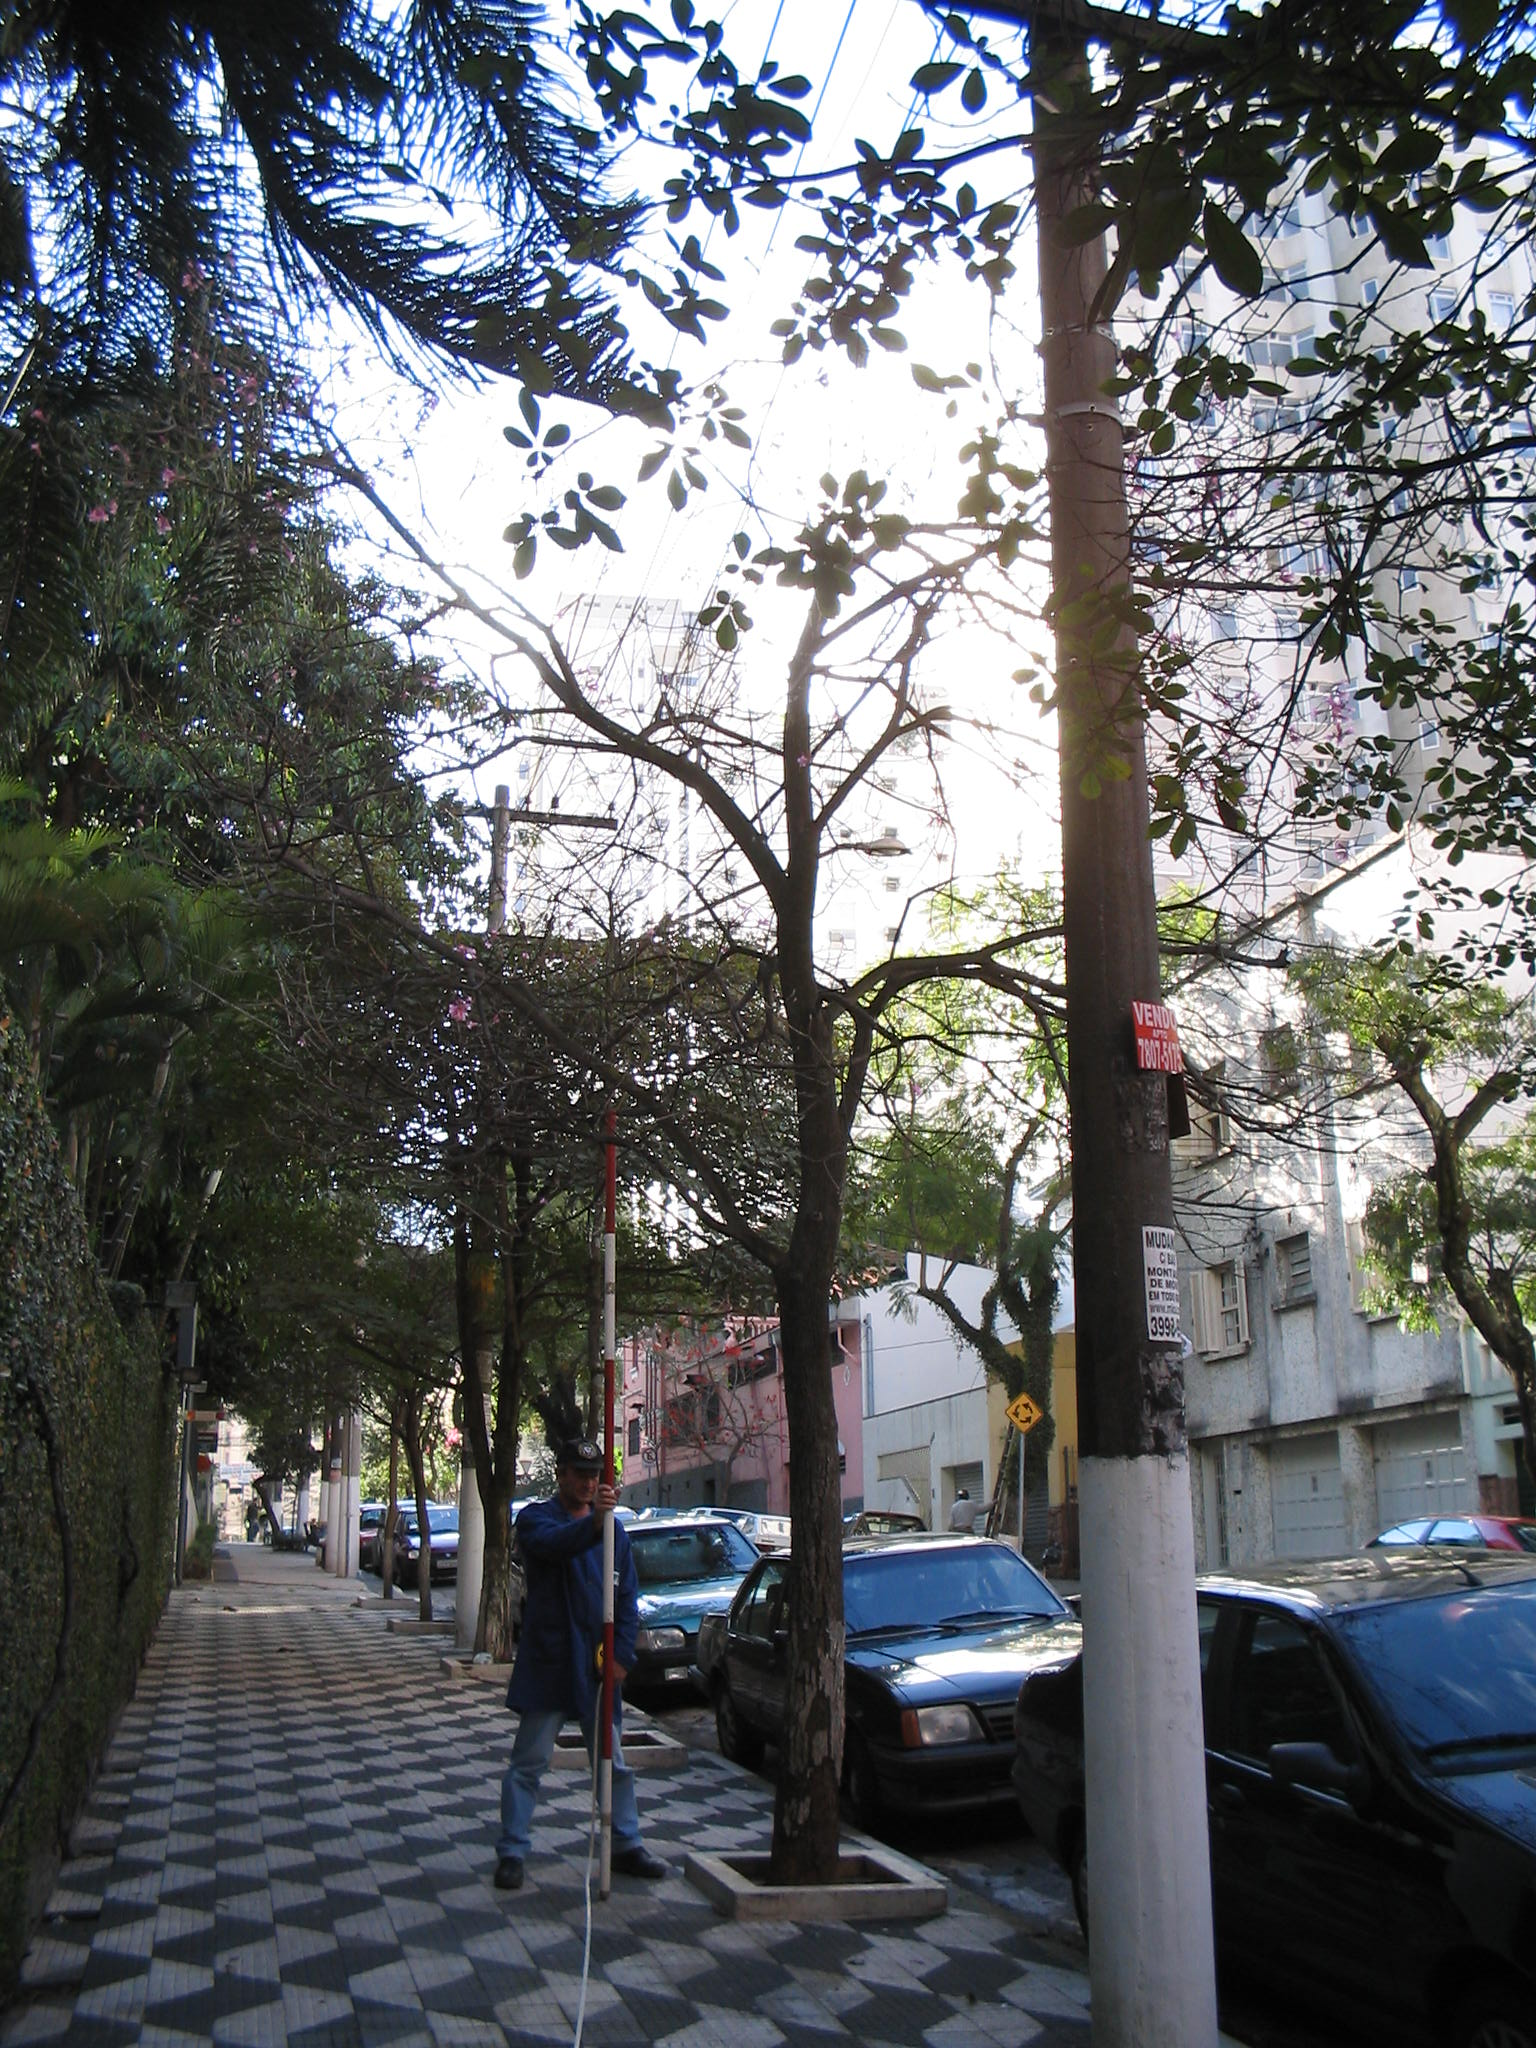stem: (723, 1261, 902, 1882)
stick: (573, 1103, 639, 1896)
tree: (223, 326, 1396, 1882)
